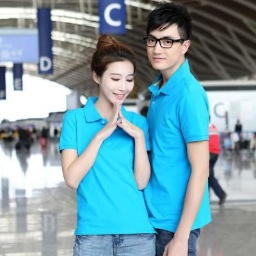face: (90, 34, 136, 105), (145, 5, 191, 74)
